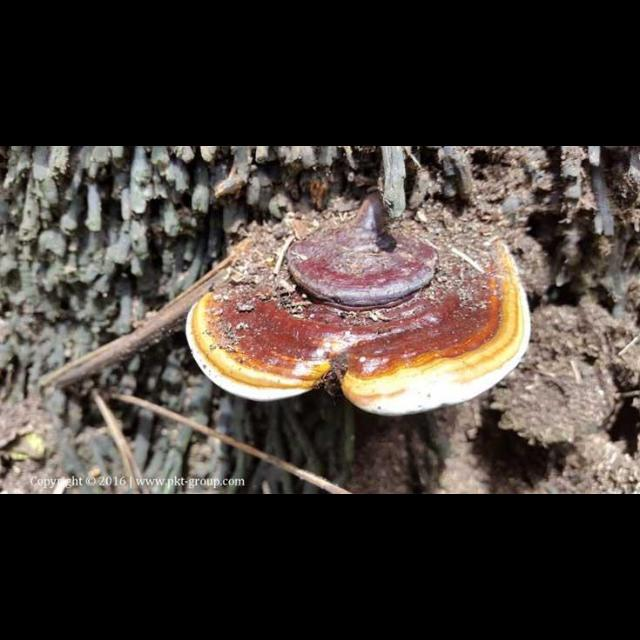ganoderma: (186, 191, 534, 419)
